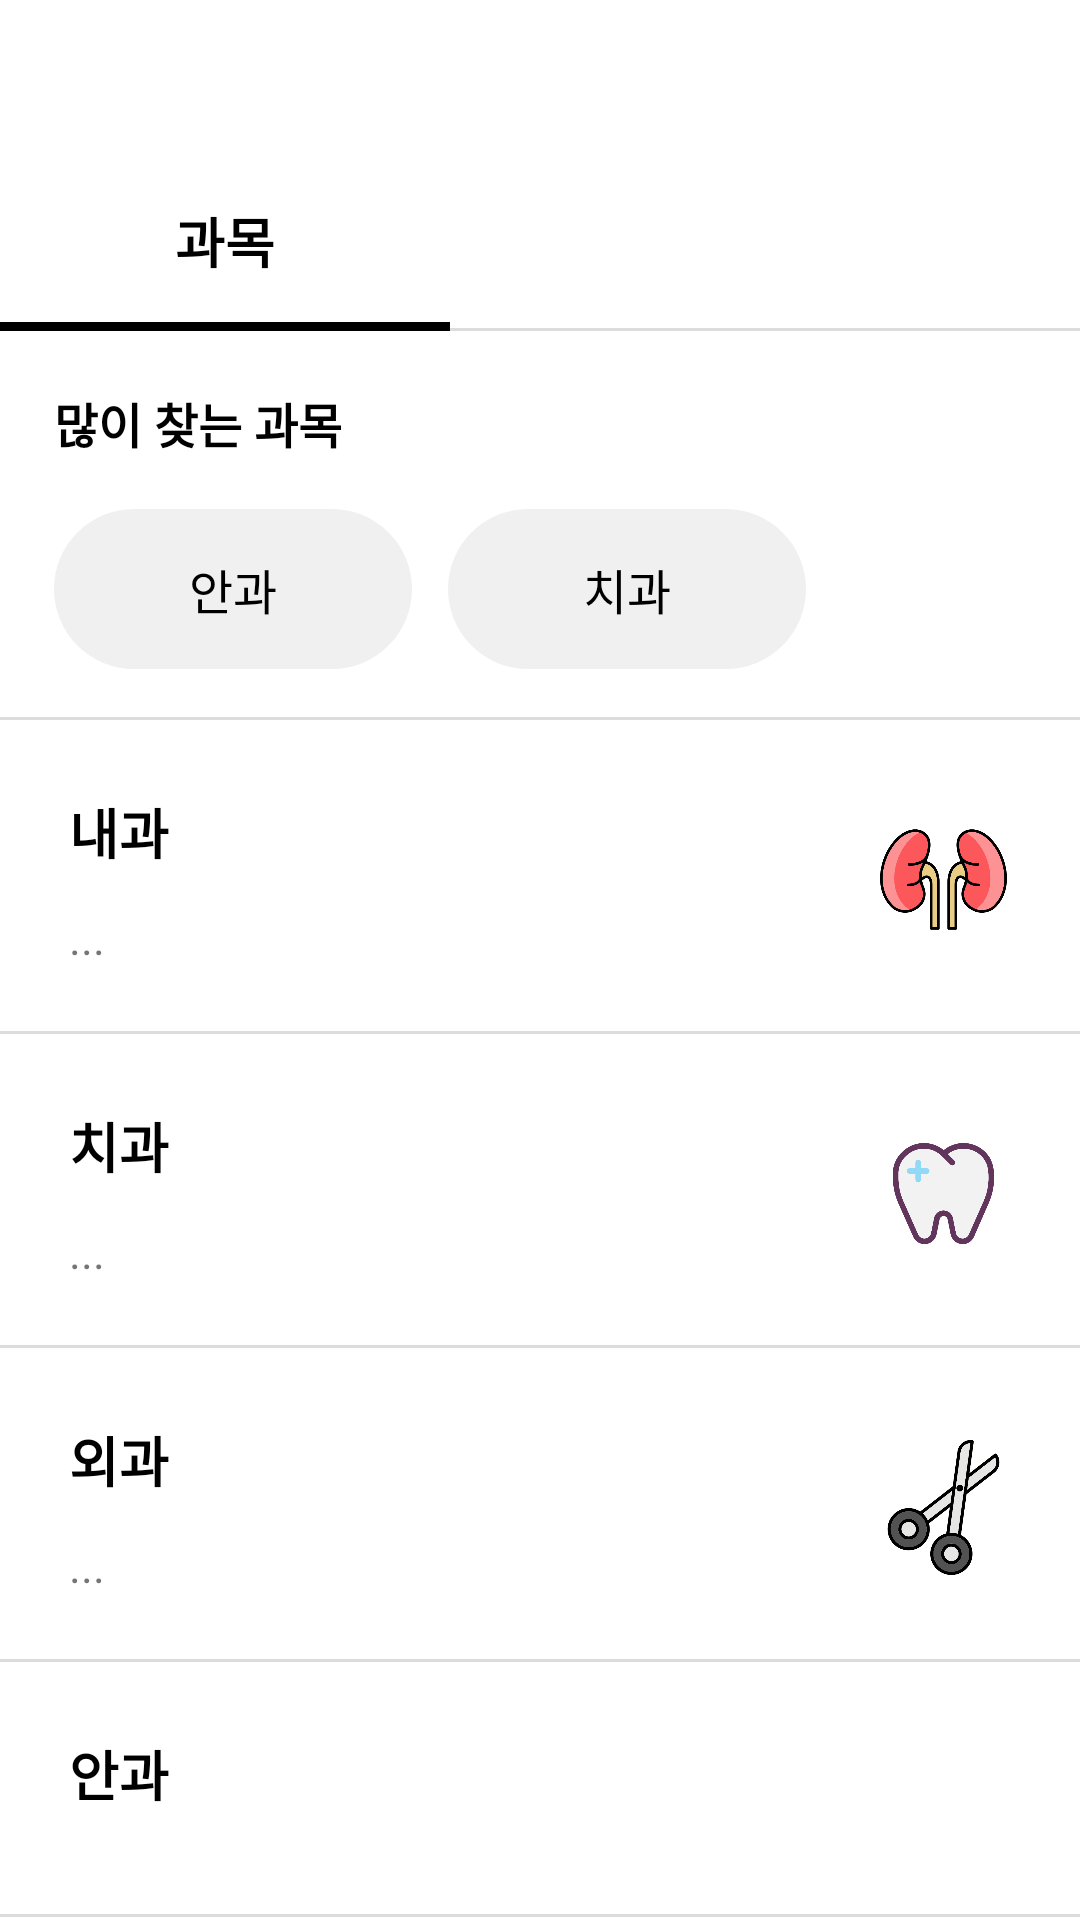

Screen size 1080 × 1920. Icon name, then its center in pixels as (x=x, y=y):
dentist: (x=943, y=1193)
kidneys: (x=943, y=879)
scissors: (x=943, y=1507)
